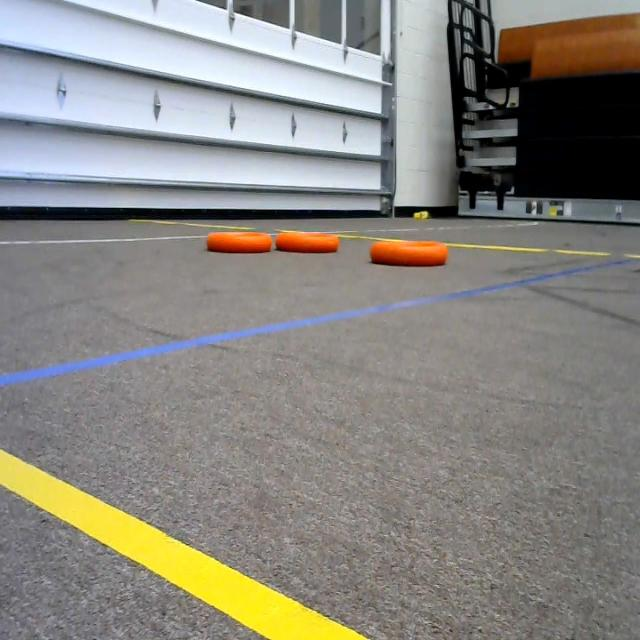note: (368, 230, 456, 277), (274, 216, 342, 256), (207, 222, 274, 258)
